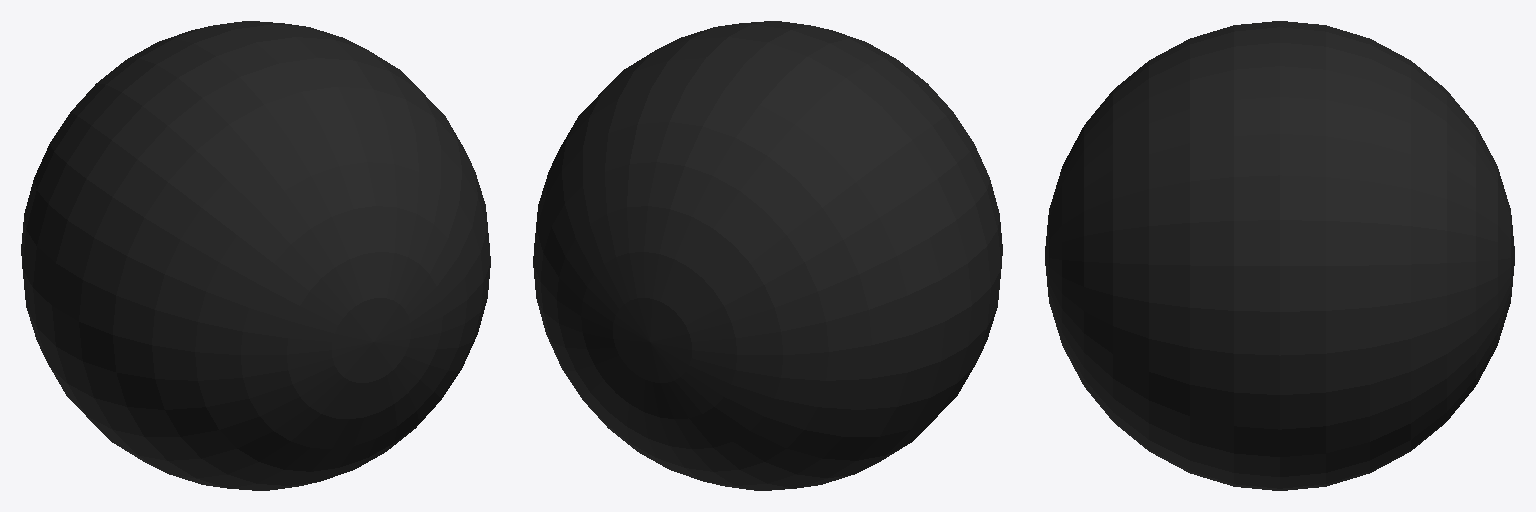
The model's file is BoneJoint.obj.
3 renders of one model, left to right at view 1: azimuth 30°, elevation 25°; view 2: azimuth 150°, elevation 25°; view 3: azimuth 270°, elevation 25°, orthographic.
Parts seen in each view (by area): view 1: Sphere; view 2: Sphere; view 3: Sphere.
Part boxes in pixels (x1,y1,x2,y2): Sphere: (21, 21, 490, 490); Sphere: (533, 21, 1002, 490); Sphere: (1045, 21, 1514, 490).
Bounding box in the file's own units: 0.2 × 0.2 × 0.2.